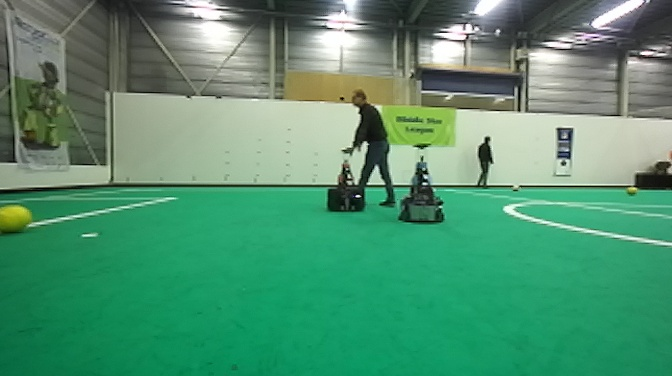ball: (1, 199, 35, 238), (626, 184, 640, 197), (509, 181, 523, 194)
human: (344, 88, 396, 207), (473, 133, 495, 189)
robot: (396, 141, 447, 225), (325, 147, 367, 214)
